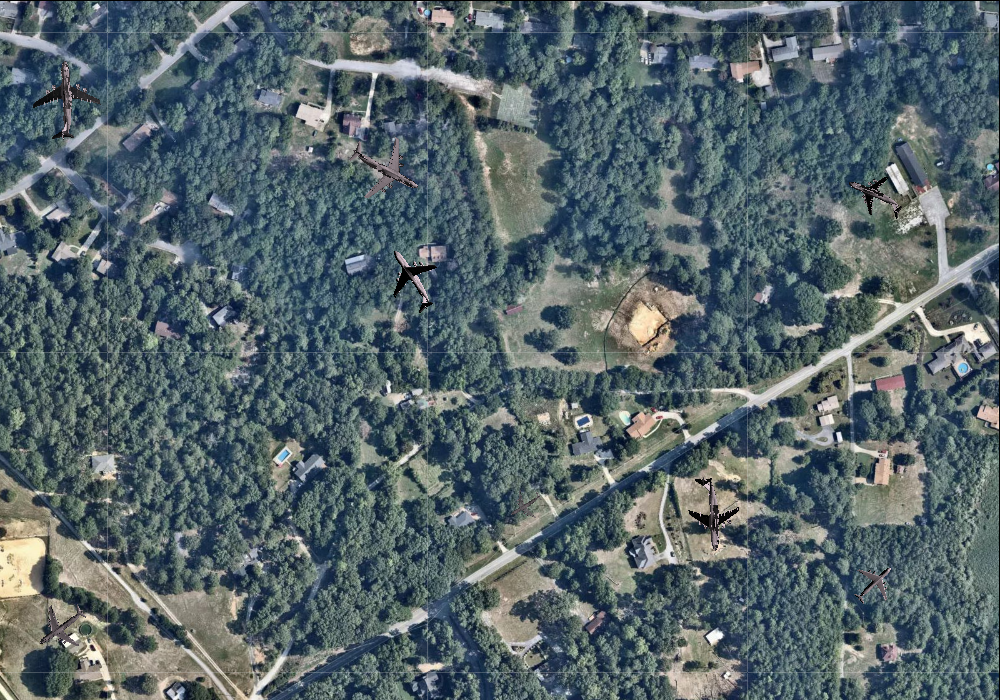plane: (334, 119, 435, 217), (367, 234, 455, 324), (24, 58, 103, 141), (23, 590, 98, 664), (837, 161, 913, 232), (676, 475, 743, 552), (842, 552, 906, 615), (502, 481, 549, 528)
